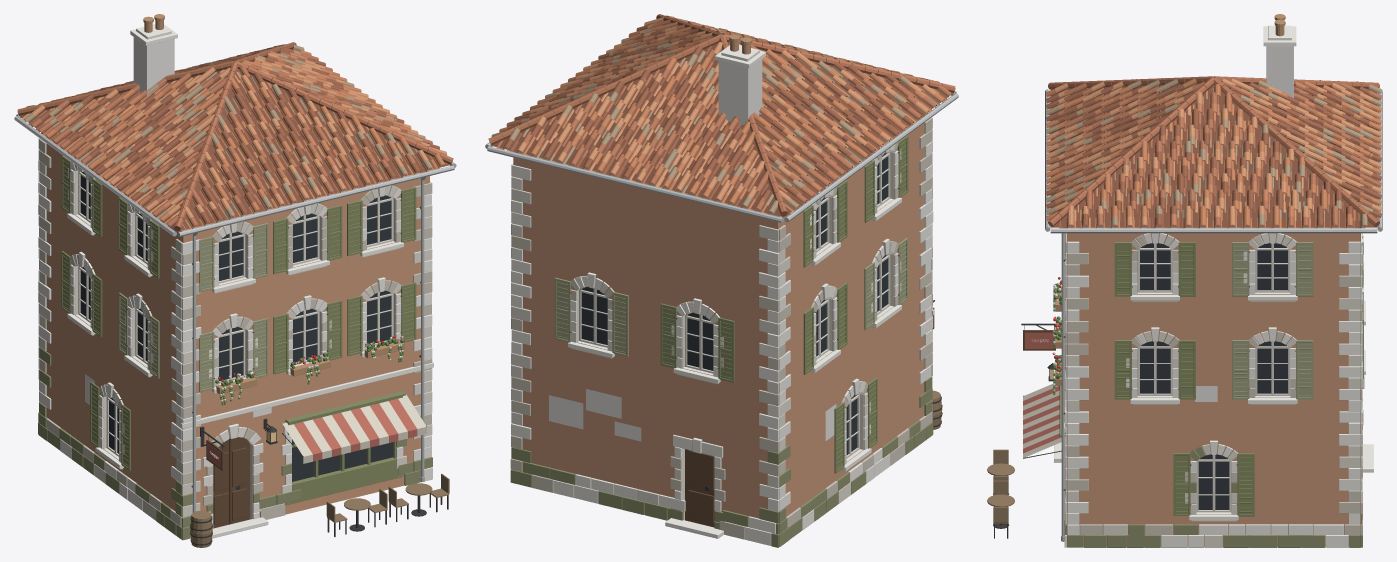
The model's file is Tavern.fbx.
The picture shows the model from 3 angles, left to right: view 1: azimuth 30°, elevation 25°; view 2: azimuth 150°, elevation 25°; view 3: azimuth 270°, elevation 25°; orthographic projection. The views are drawn at different scales.
Parts seen in each view (by area): view 1: Tavern; view 2: Tavern; view 3: Tavern.
Boxes of the visible parts, left/top/right/bottom form: Tavern: left=14, top=14, right=456, bottom=547; Tavern: left=485, top=14, right=958, bottom=547; Tavern: left=987, top=14, right=1382, bottom=547.
Bounding box in the file's own units: 9.2 × 13.27 × 10.78.
